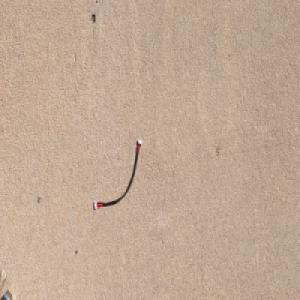Wire: (93, 137, 142, 211)
